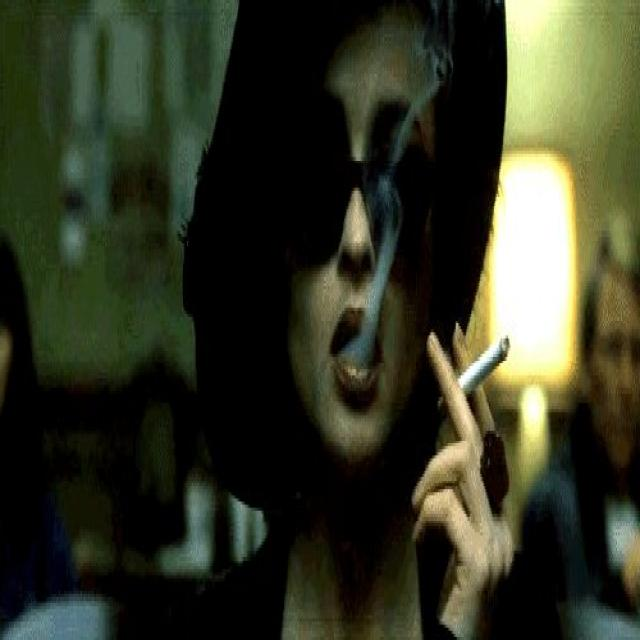smoking: (436, 326, 510, 419)
